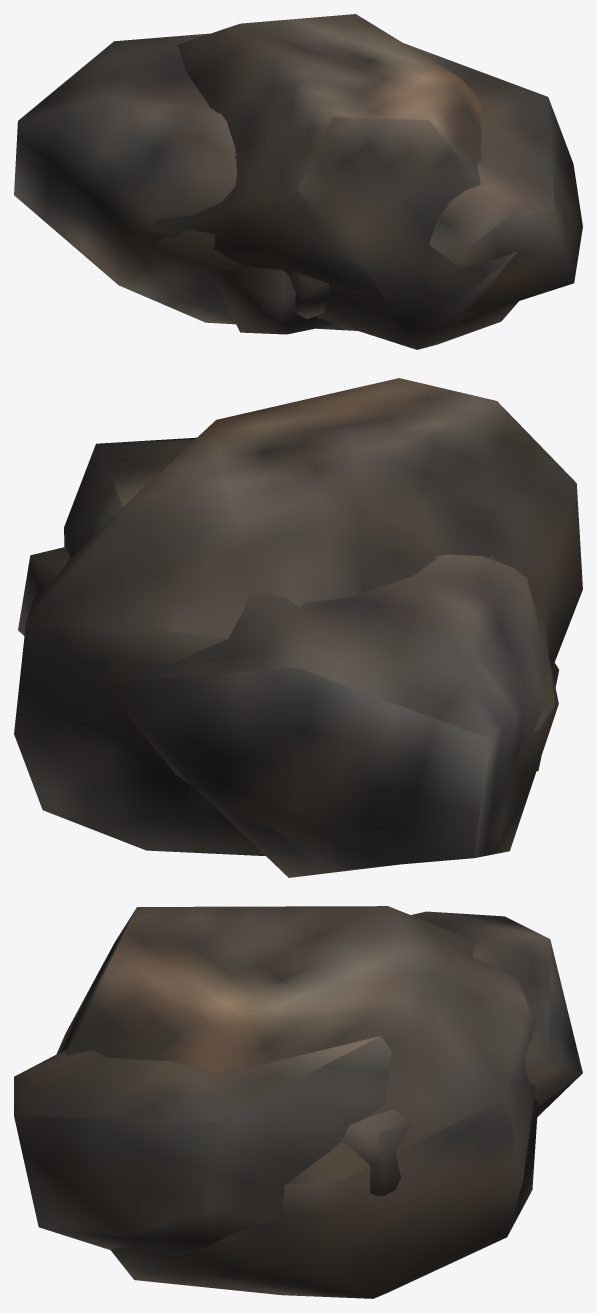
File: Small_Stones.fbx
3 renders of one model, top to bottom at view 1: azimuth 30°, elevation 25°; view 2: azimuth 150°, elevation 25°; view 3: azimuth 270°, elevation 25°, orthographic. The views are drawn at different scales.
Parts seen in each view (by area): view 1: Stone_10_Small, Stone_02_Small, Stone_09_Small, Stone_13_Small; view 2: Stone_10_Small, Stone_02_Small, Stone_13_Small; view 3: Stone_10_Small, Stone_02_Small, Stone_13_Small.
Boxes of the visible parts, x1=… form: Stone_10_Small: x1=138, y1=14, x2=518, y2=349; Stone_02_Small: x1=14, y1=33, x2=582, y2=330; Stone_09_Small: x1=210, y1=266, x2=332, y2=334; Stone_13_Small: x1=289, y1=273, x2=330, y2=318; Stone_10_Small: x1=14, y1=378, x2=582, y2=855; Stone_02_Small: x1=64, y1=437, x2=558, y2=877; Stone_13_Small: x1=18, y1=547, x2=69, y2=635; Stone_10_Small: x1=56, y1=906, x2=538, y2=1298; Stone_02_Small: x1=14, y1=911, x2=582, y2=1255; Stone_13_Small: x1=342, y1=1109, x2=410, y2=1195.
Size of the model in its own units: 29.79 by 18.7 by 30.22.
